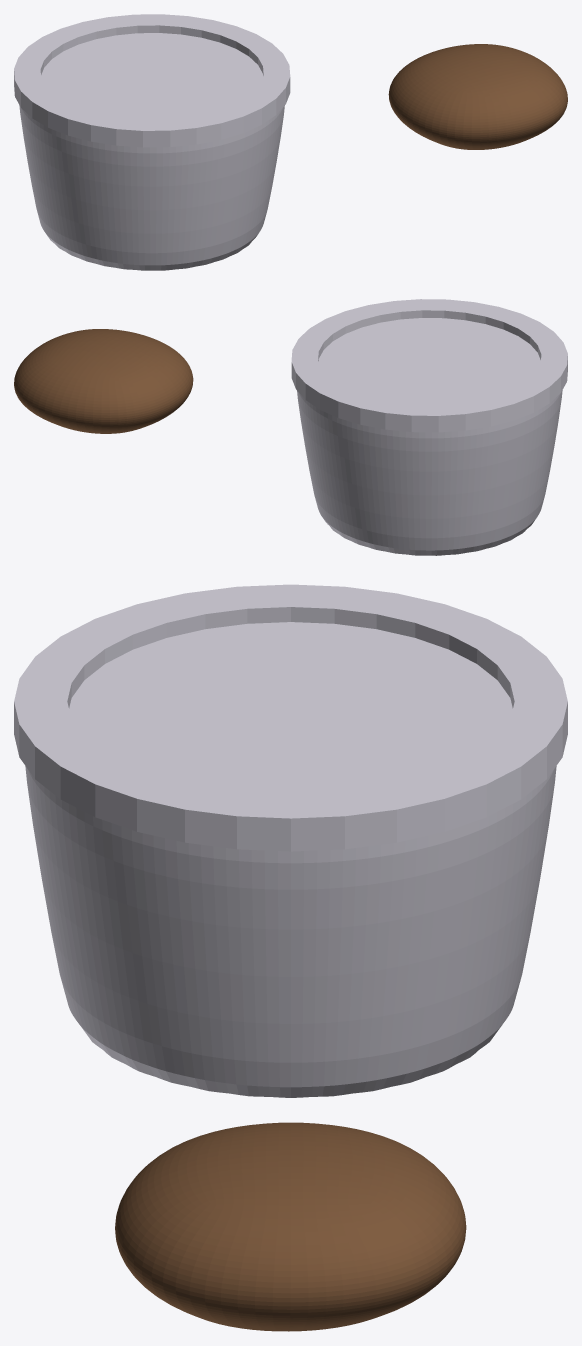
The model's file is gulaApong.fbx.
3 views of the same model, one above another, from view 1: azimuth 30°, elevation 25°; view 2: azimuth 150°, elevation 25°; view 3: azimuth 270°, elevation 25° (orthographic). The views are drawn at different scales.
Parts seen in each view (by area): view 1: cover_gula apong, cup_gula apong, gula apong_outside; view 2: cover_gula apong, cup_gula apong, gula apong_outside; view 3: cover_gula apong, cup_gula apong, gula apong_outside.
Boxes of the visible parts, x1,y1,x2,y2 form: cover_gula apong: (14,14,290,147); cup_gula apong: (19,105,284,270); gula apong_outside: (388,44,567,149); cover_gula apong: (291,299,567,432); cup_gula apong: (297,390,562,555); gula apong_outside: (14,329,193,433); cover_gula apong: (14,584,567,851); cup_gula apong: (25,766,556,1097); gula apong_outside: (115,1122,466,1331).
Size of the model in its own units: 435 by 125 by 200.
